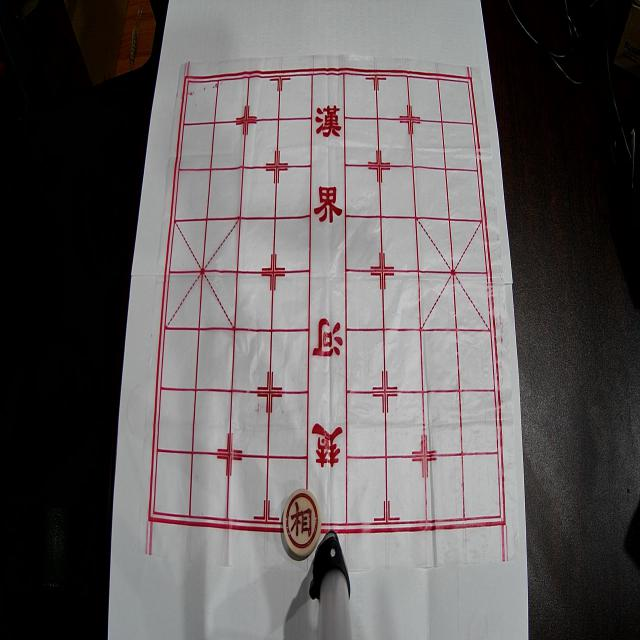red-elephant: (283, 488, 321, 556)
